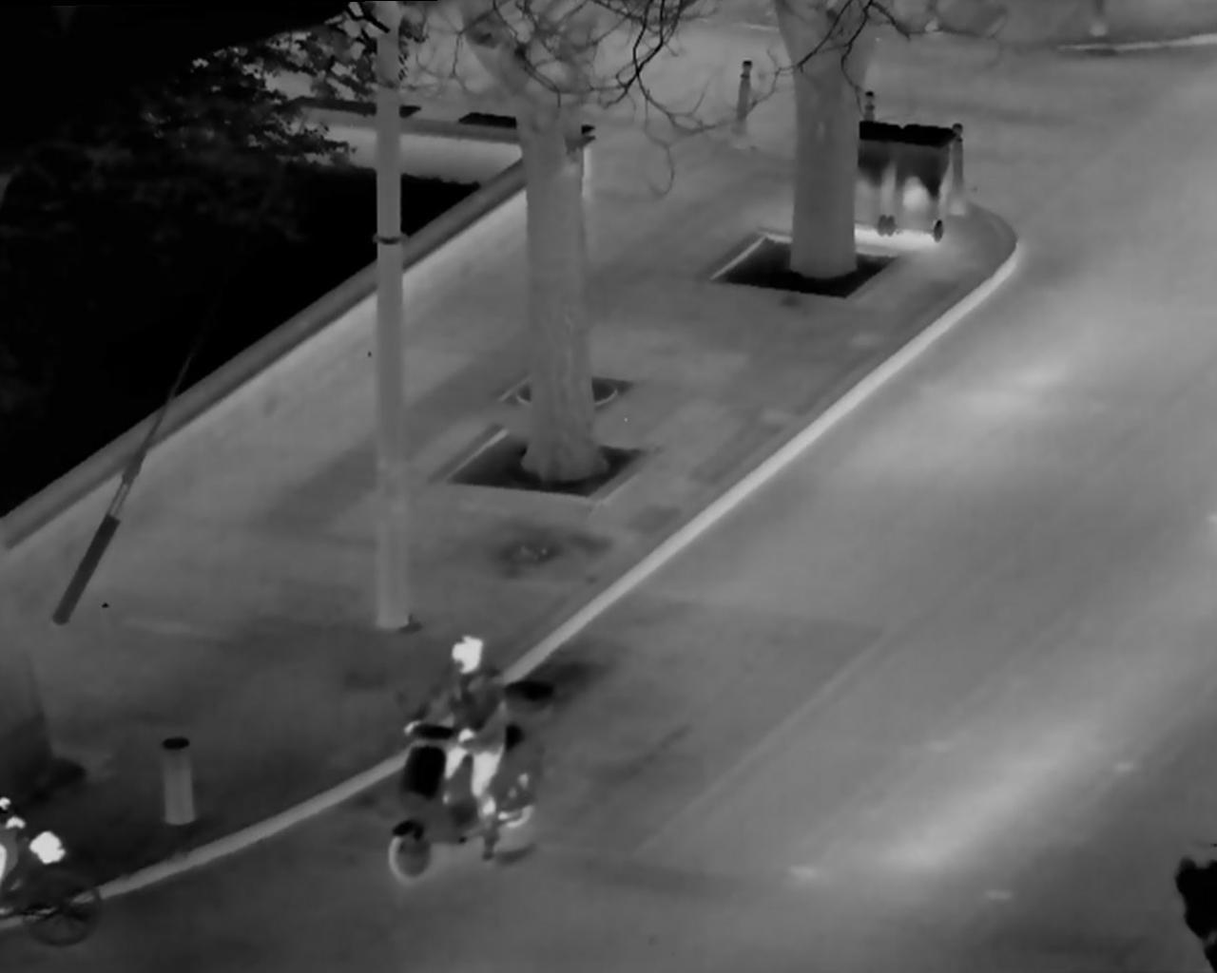person: (384, 622, 545, 864)
